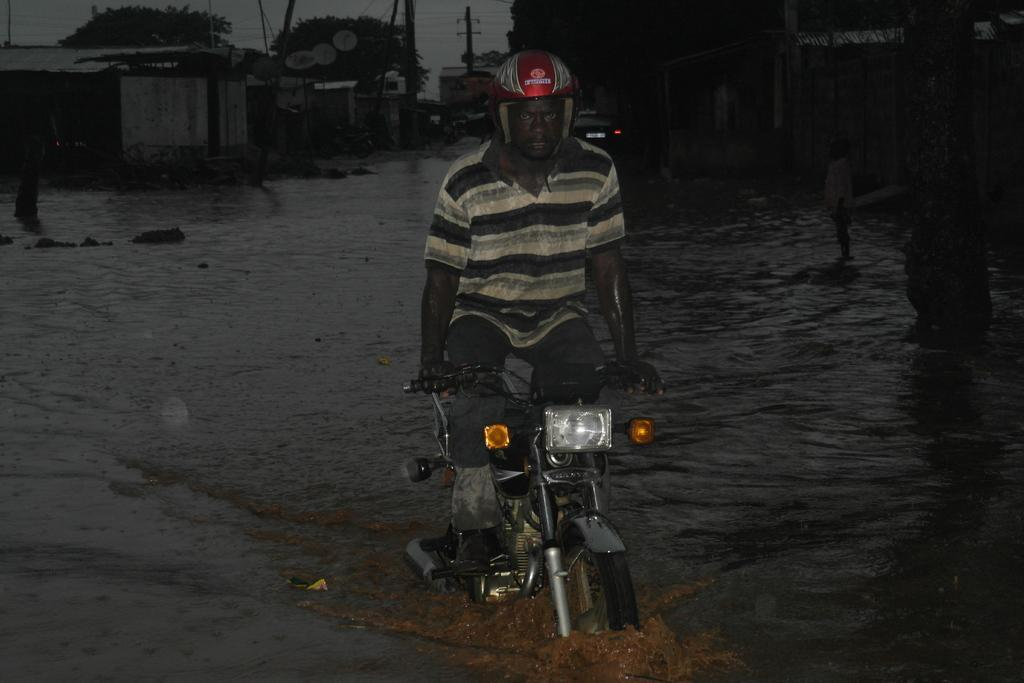helmet: (486, 47, 584, 163)
